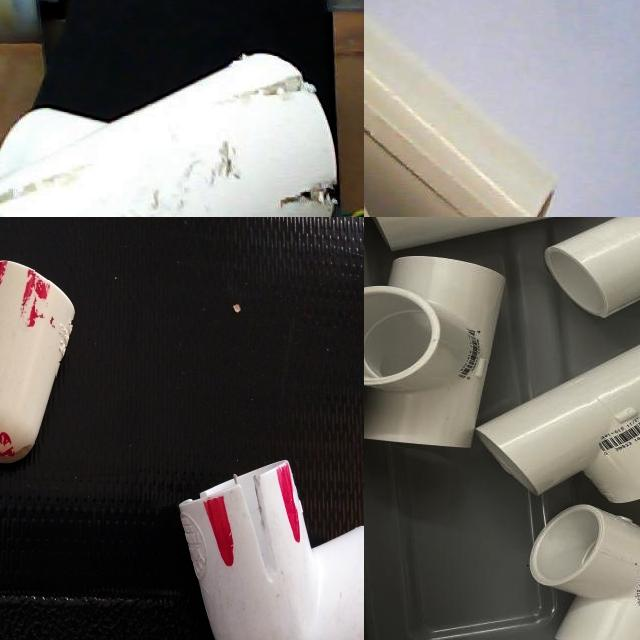Defective: (246, 169, 338, 216), (0, 180, 93, 217), (233, 61, 308, 106), (56, 363, 114, 413), (191, 250, 218, 341), (53, 325, 119, 361), (44, 280, 102, 320)
L Joint: (35, 217, 225, 444), (529, 506, 640, 640)
T Joint: (0, 52, 340, 217), (364, 10, 557, 217), (364, 256, 506, 452), (474, 345, 640, 504)
